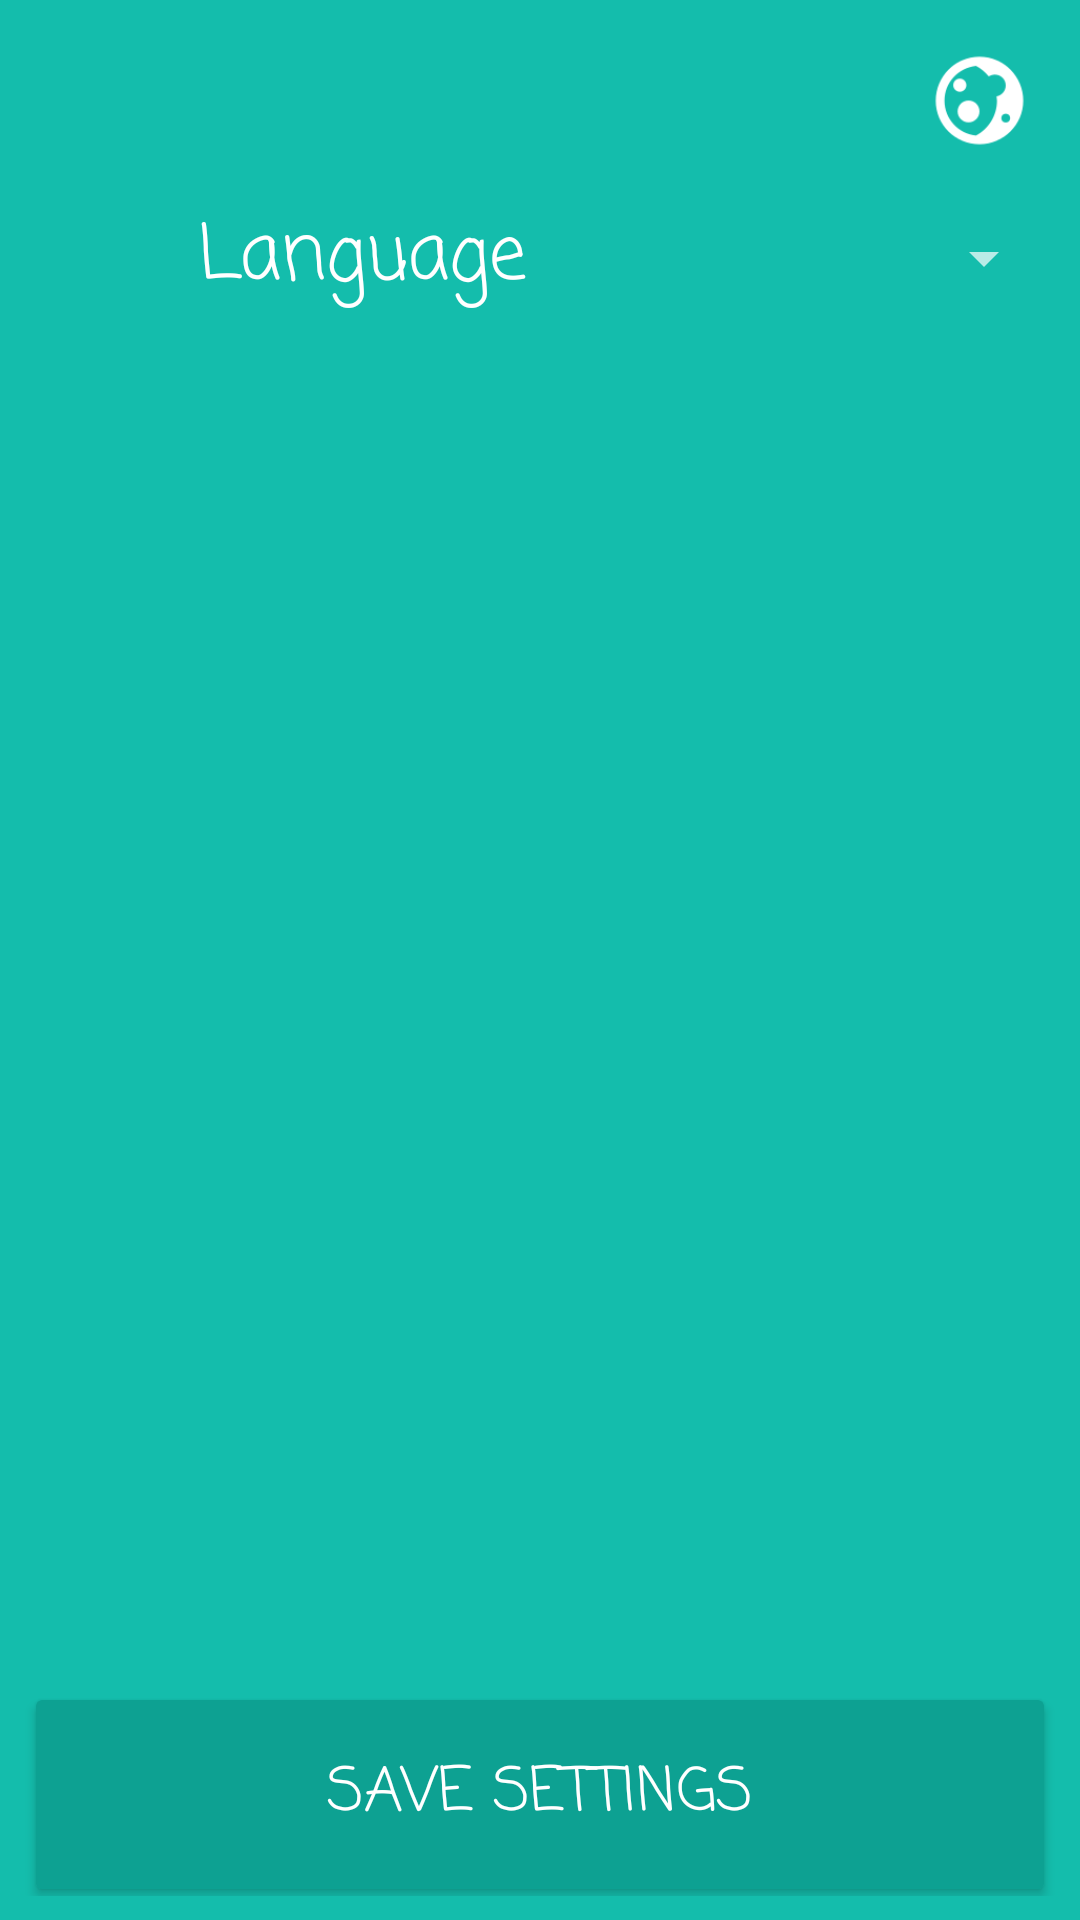

Screen size 1080px×1920px. Icon name, then its box in pixels as [x1,y1,x2,y2]:
moon: [935,56,1024,145]
